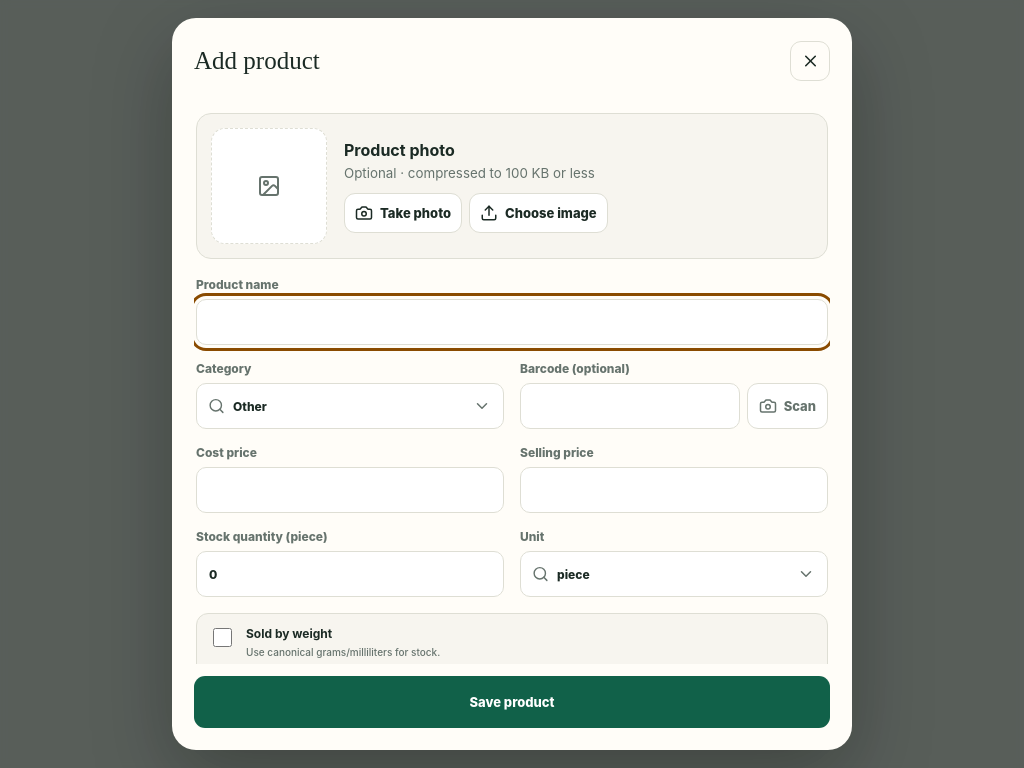
Test: Utang search and app modal improvements › searches and selects category and unit options in the Product form
Focus the dropdown labelled "Category": (343, 406) 233,384 -> 453,428
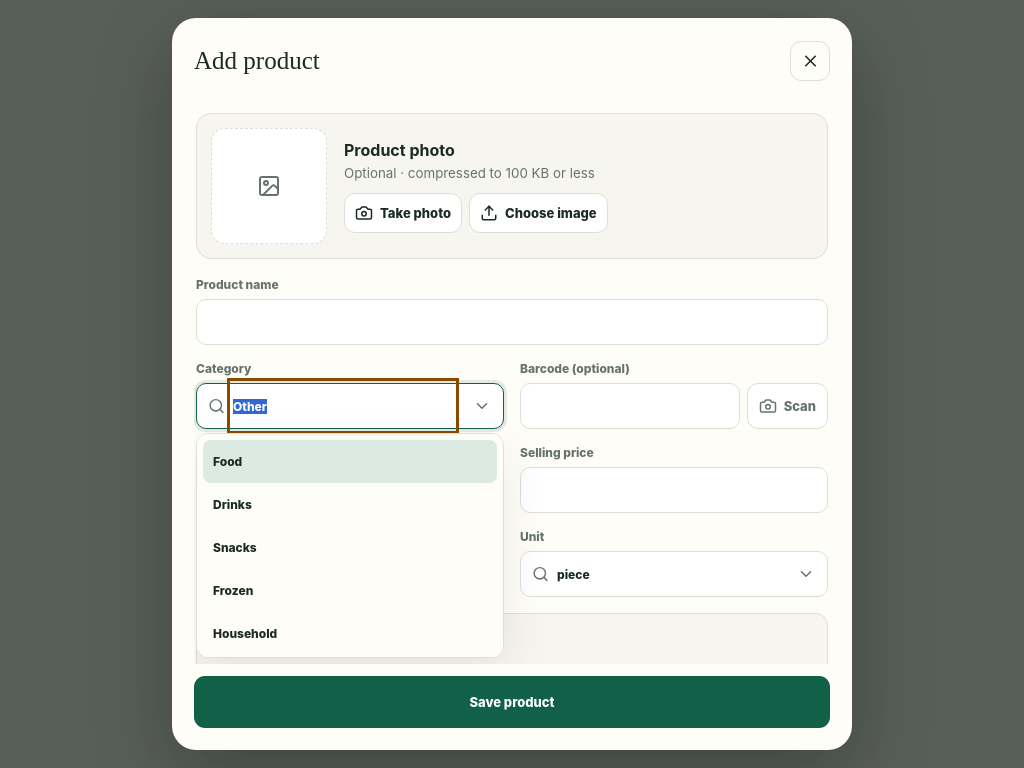
Check: the option "Drinks" is shown, box 203,483 -> 497,526
Replace the text in the dropdown labelled "Category" with "sna": (343, 406) 233,384 -> 453,428
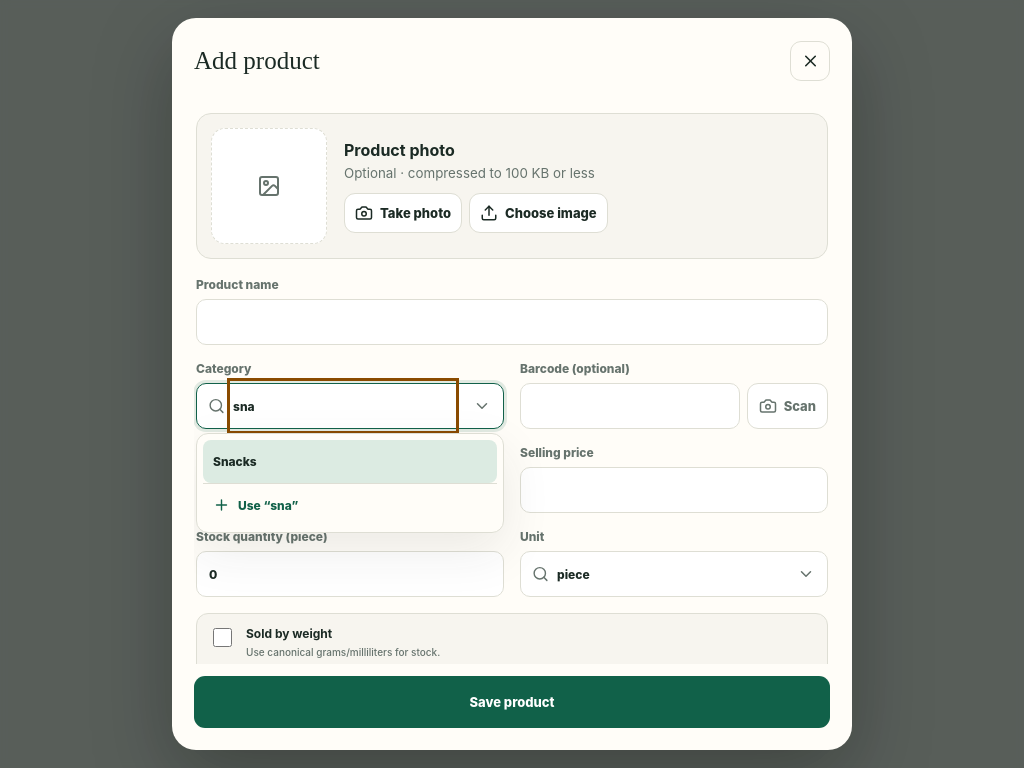
Check: the option "Snacks" is shown, box 203,440 -> 497,483
Check: the option "Drinks" is gone
Press Enter in the dropdown labelled "Category", box 233,384 -> 453,428
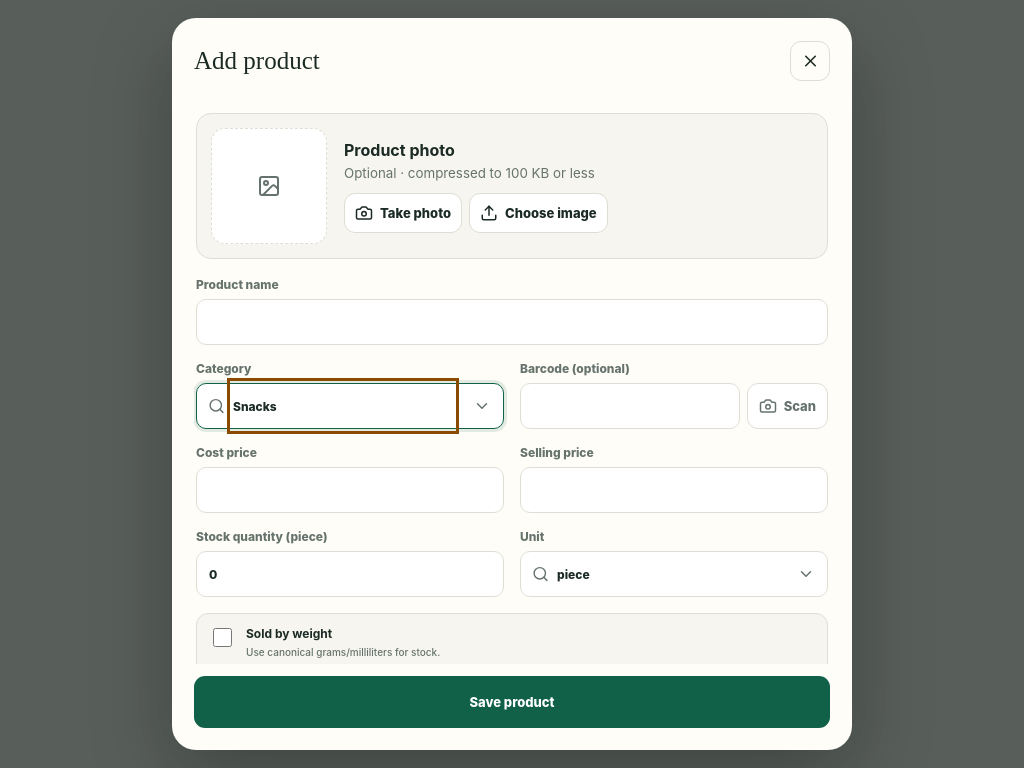
Check: the dropdown labelled "Category" holds "Snacks", box 233,384 -> 453,428
Replace the text in the dropdown labelled "Unit" with "bot": (667, 574) 557,552 -> 777,596
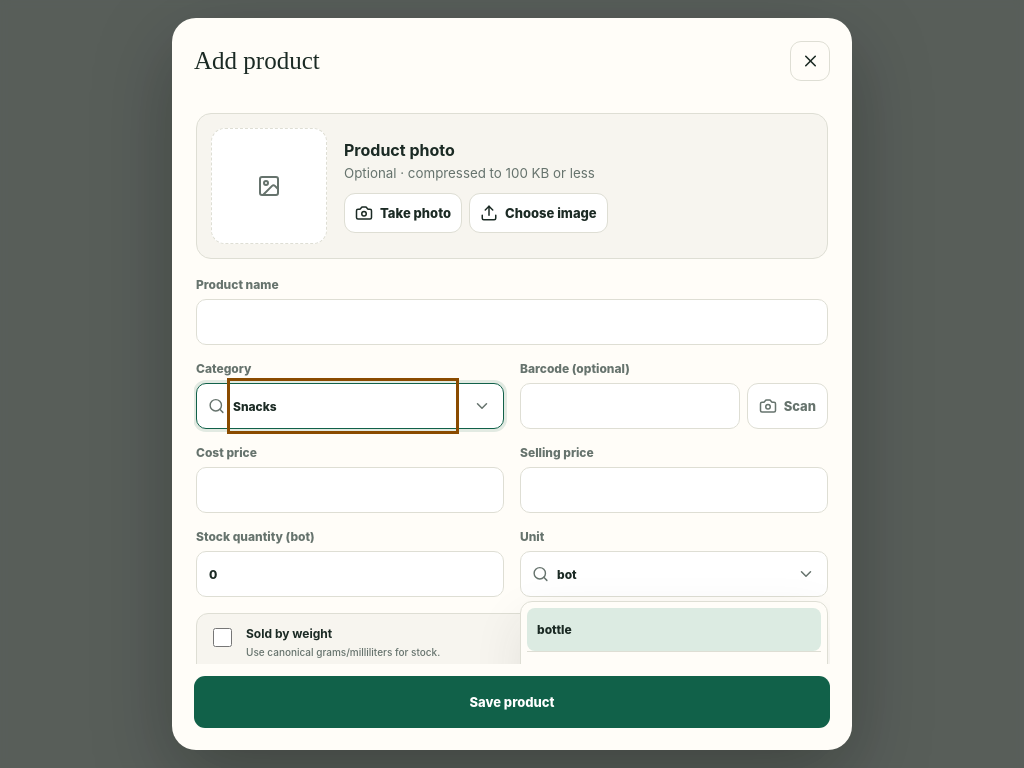
Click the option "bottle": click(554, 630) 527,608 -> 821,651
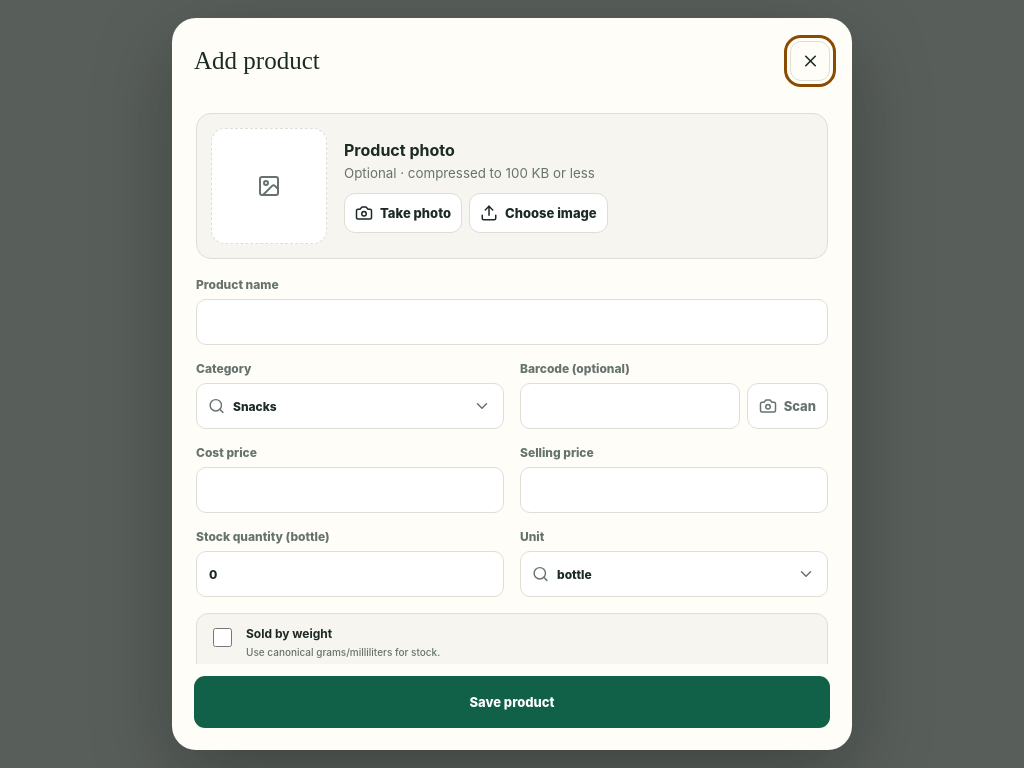
Check: the dropdown labelled "Unit" holds "bottle", box 557,552 -> 777,596
